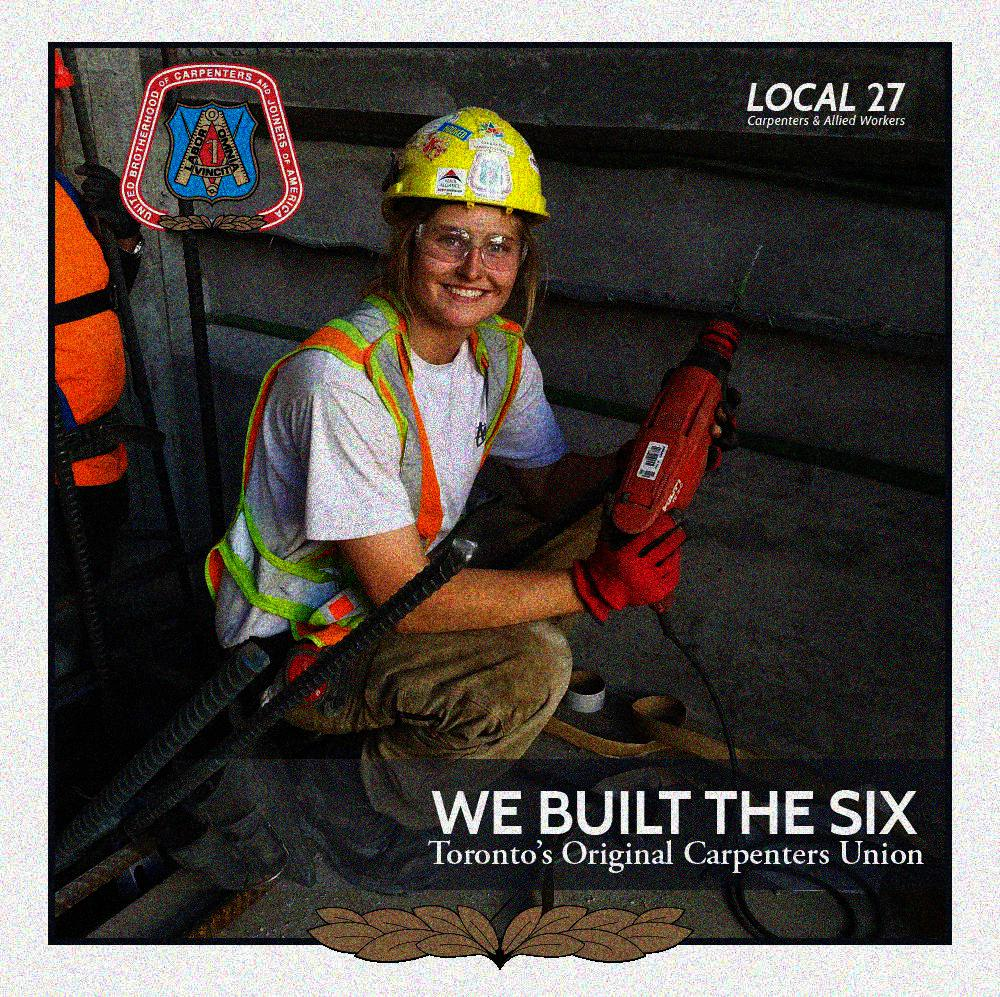helmet: (374, 101, 551, 336), (51, 48, 86, 174)
